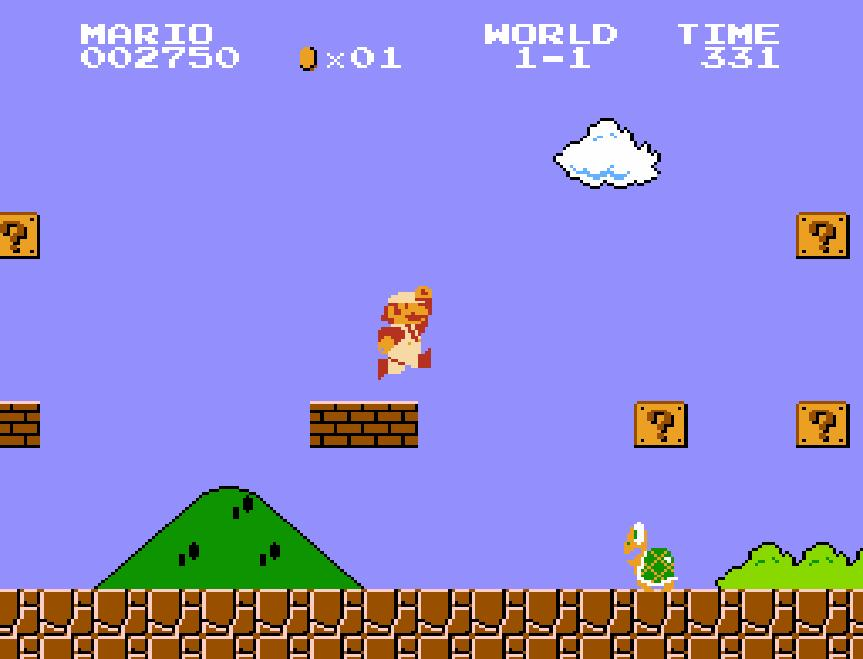fire_mario: (376, 284, 434, 382)
